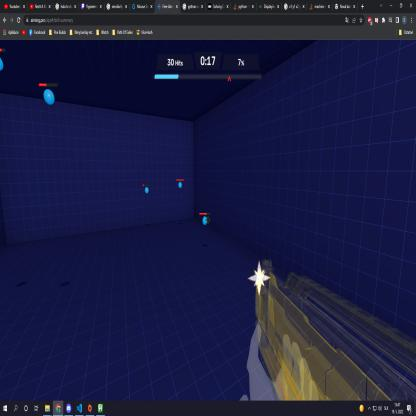sphere: (42, 88, 56, 106), (0, 54, 5, 75), (202, 216, 208, 226), (178, 181, 182, 188), (145, 187, 149, 194)
